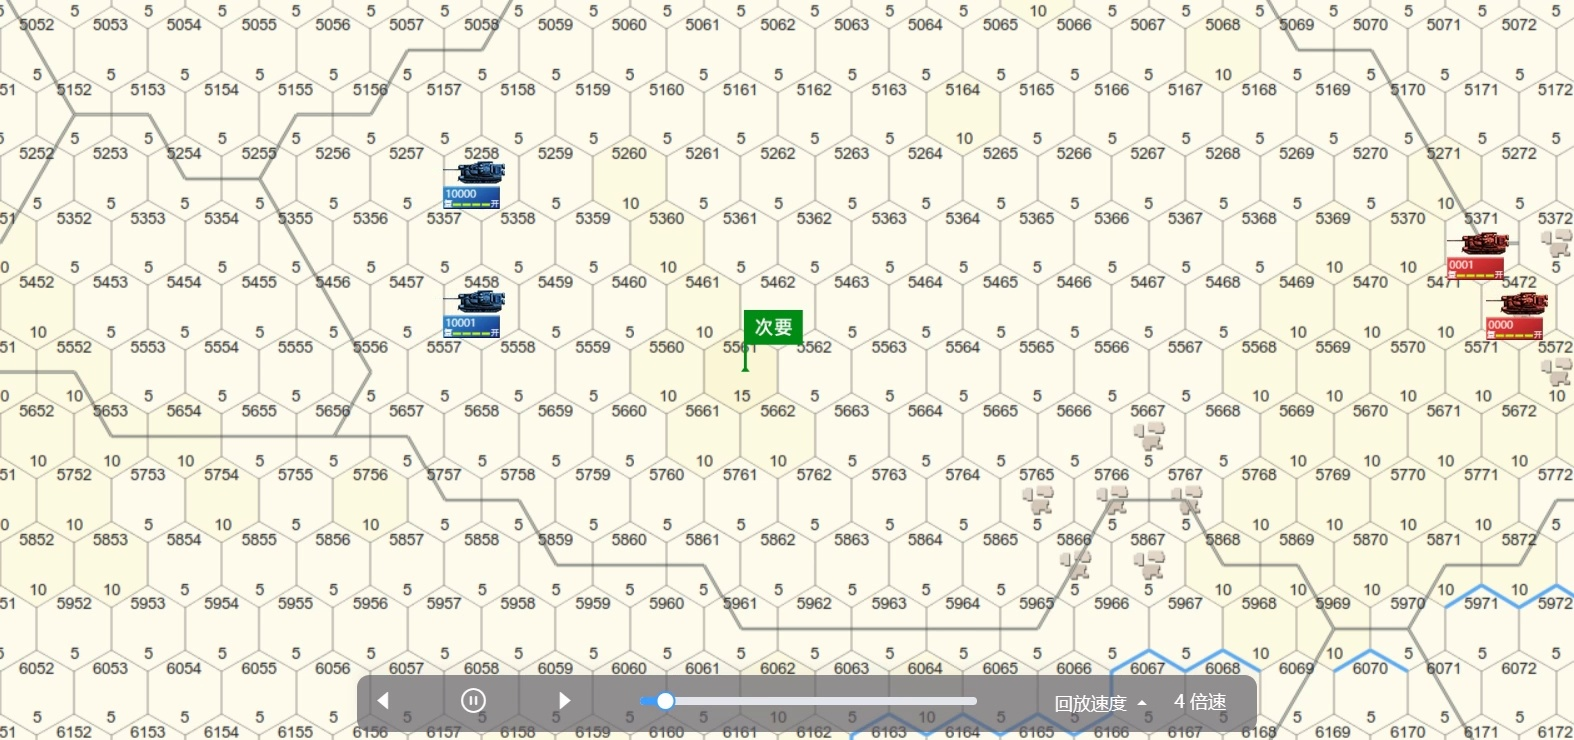blue_tank: (450, 291, 508, 334), (449, 169, 500, 206)
red_tank: (1492, 291, 1544, 340), (1452, 232, 1506, 274)
